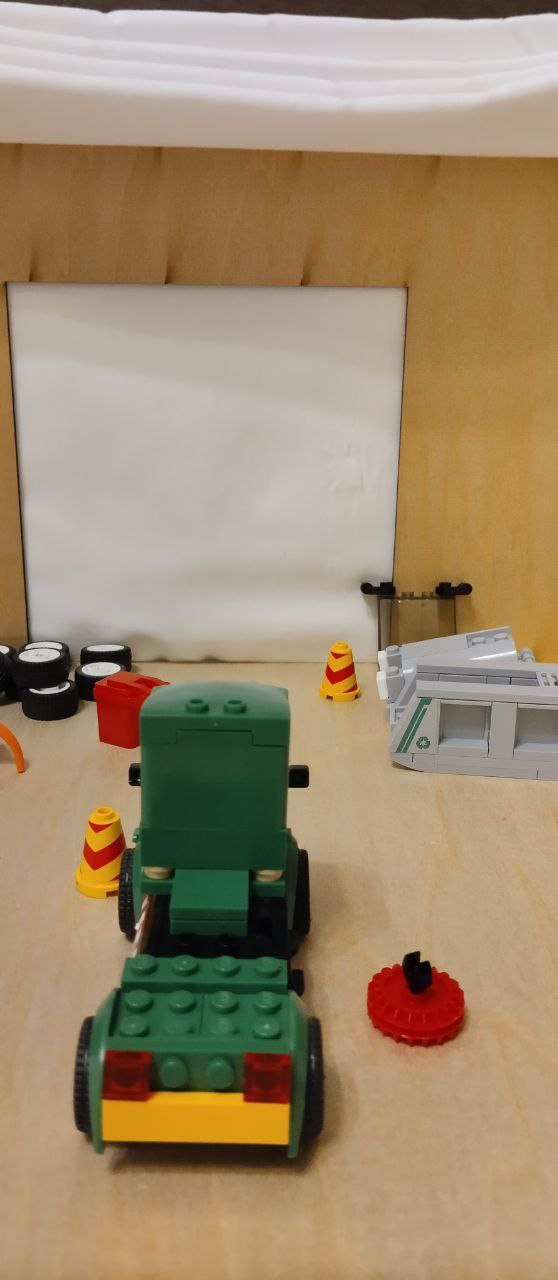Cone: (83, 669, 176, 752), (78, 806, 140, 898), (318, 641, 366, 706)
Truck: (66, 672, 339, 1162)
